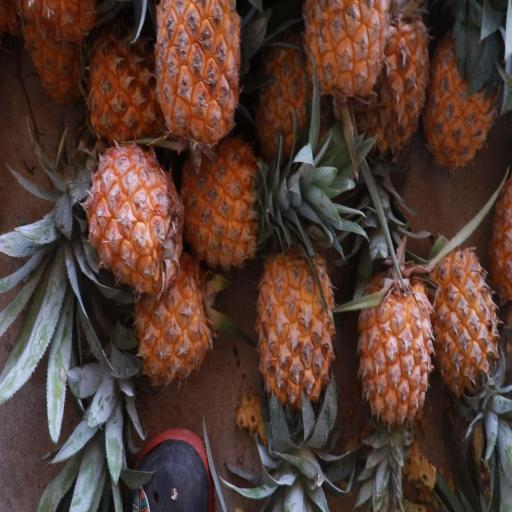Pineapple - v8 v1: (79, 138, 189, 302), (254, 232, 338, 444), (176, 115, 286, 262), (356, 260, 440, 444), (422, 11, 510, 177), (152, 0, 246, 153), (427, 234, 505, 413), (132, 243, 218, 394), (354, 0, 432, 158), (296, 0, 394, 104)
